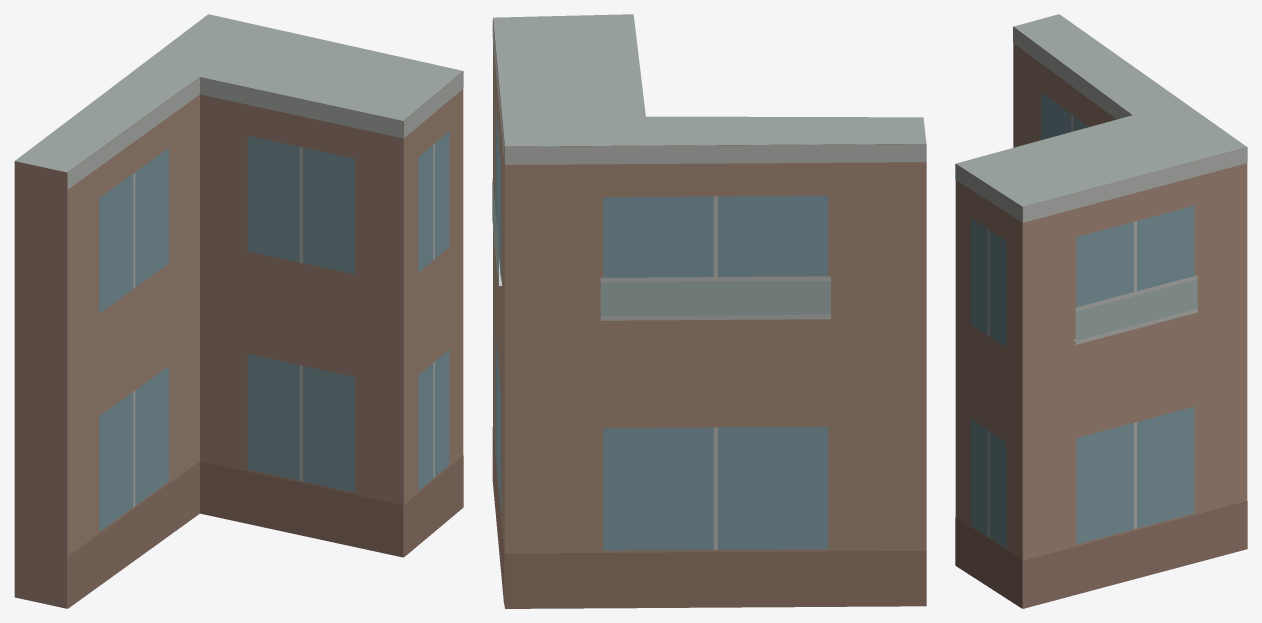
File: survey-upis-32471380.glb
3 views of the same model, side by side, from view 1: azimuth 30°, elevation 25°; view 2: azimuth 150°, elevation 25°; view 3: azimuth 270°, elevation 25° (orthographic). The views are drawn at different scales.
Visible parts, largest first — view 1: survey-upis-32471380.tmp; view 2: survey-upis-32471380.tmp; view 3: survey-upis-32471380.tmp.
Part boxes in pixels (x1,y1,x2,y2): survey-upis-32471380.tmp: (14,14,463,608); survey-upis-32471380.tmp: (492,14,926,608); survey-upis-32471380.tmp: (955,14,1247,608).
Bounding box in the file's own units: 6.28 × 6.1 × 4.02.
